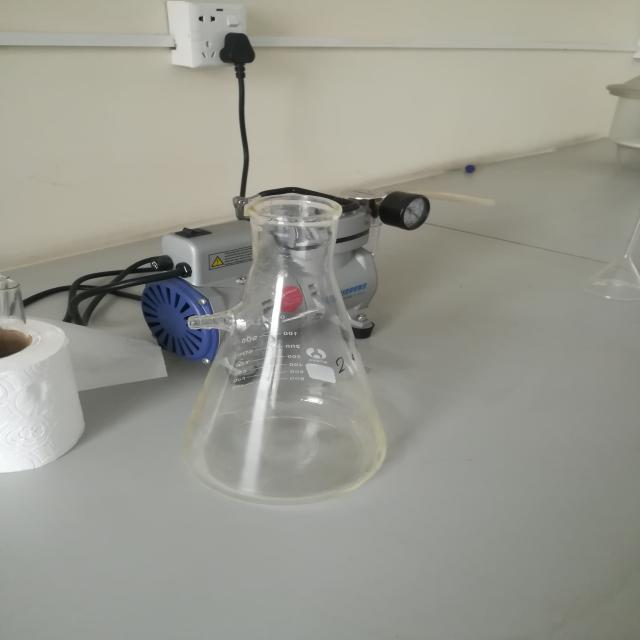Conical_Flask: (146, 176, 424, 546)
